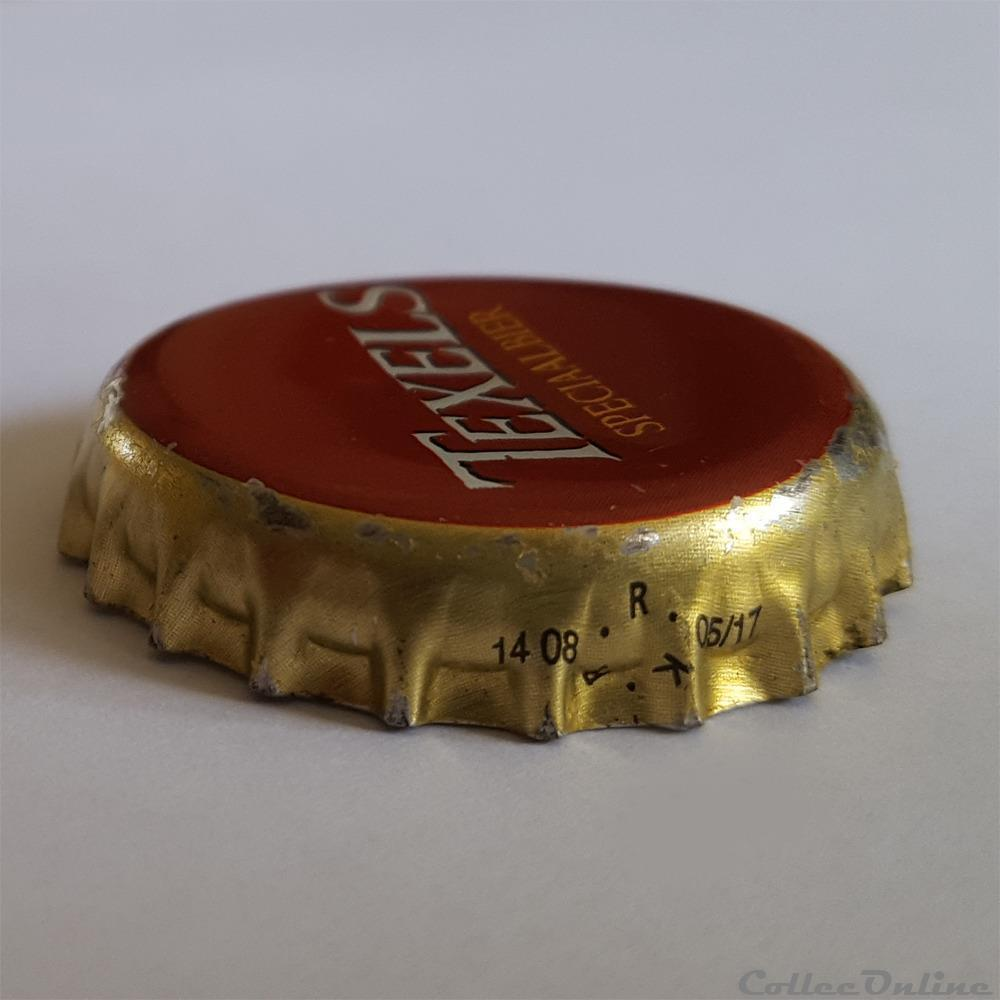metal: (58, 277, 913, 740)
